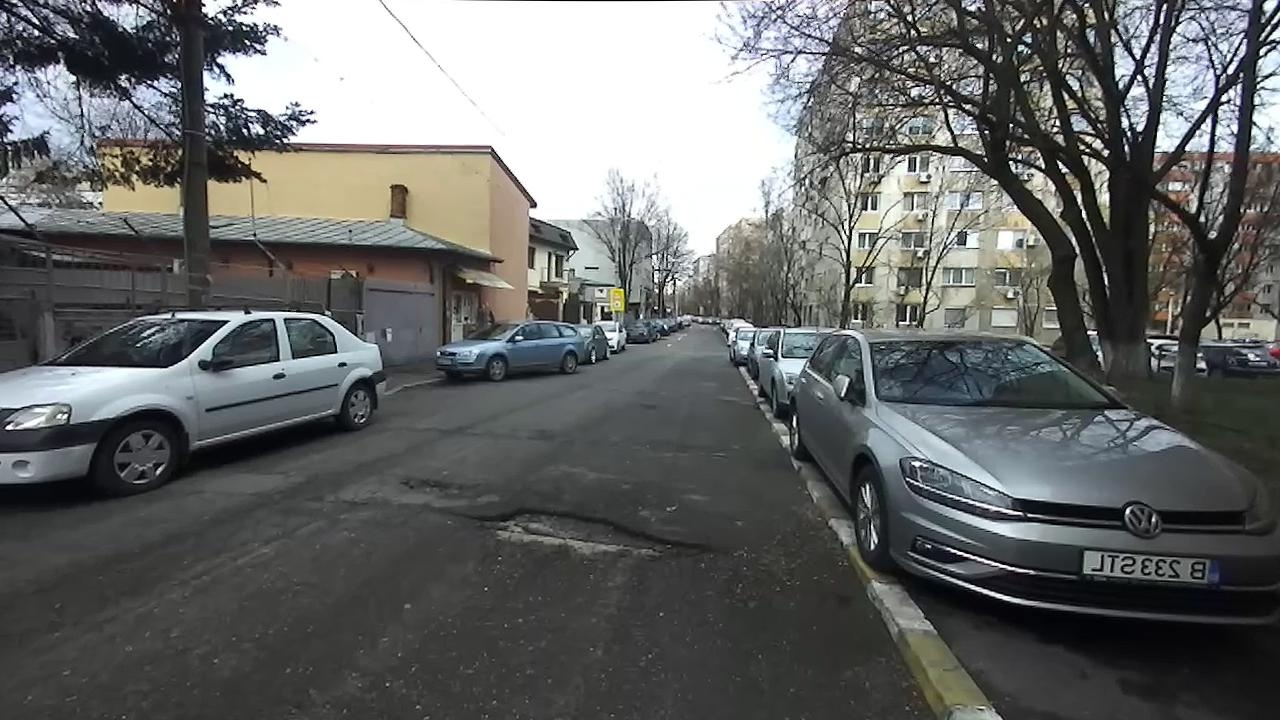pothole: (450, 501, 730, 560), (388, 471, 483, 497)
